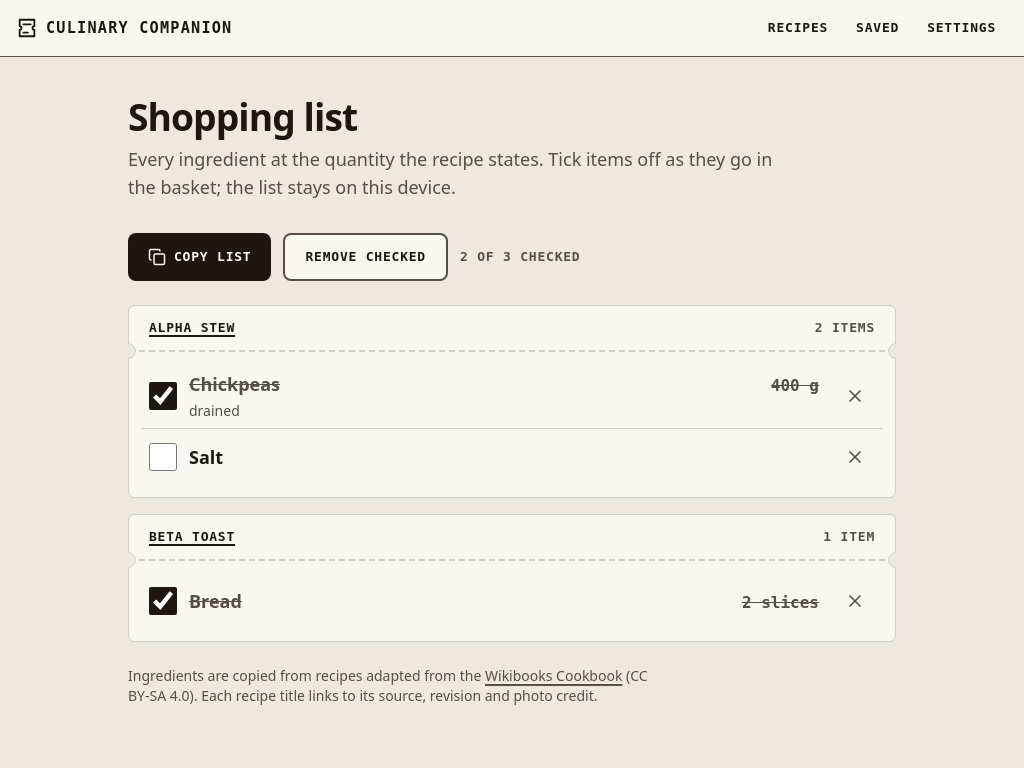
ShoppingListScreen › offers Undo after Remove checked and restores every removed tick
Click the button "Remove checked": click(366, 257) [284,233,448,281]
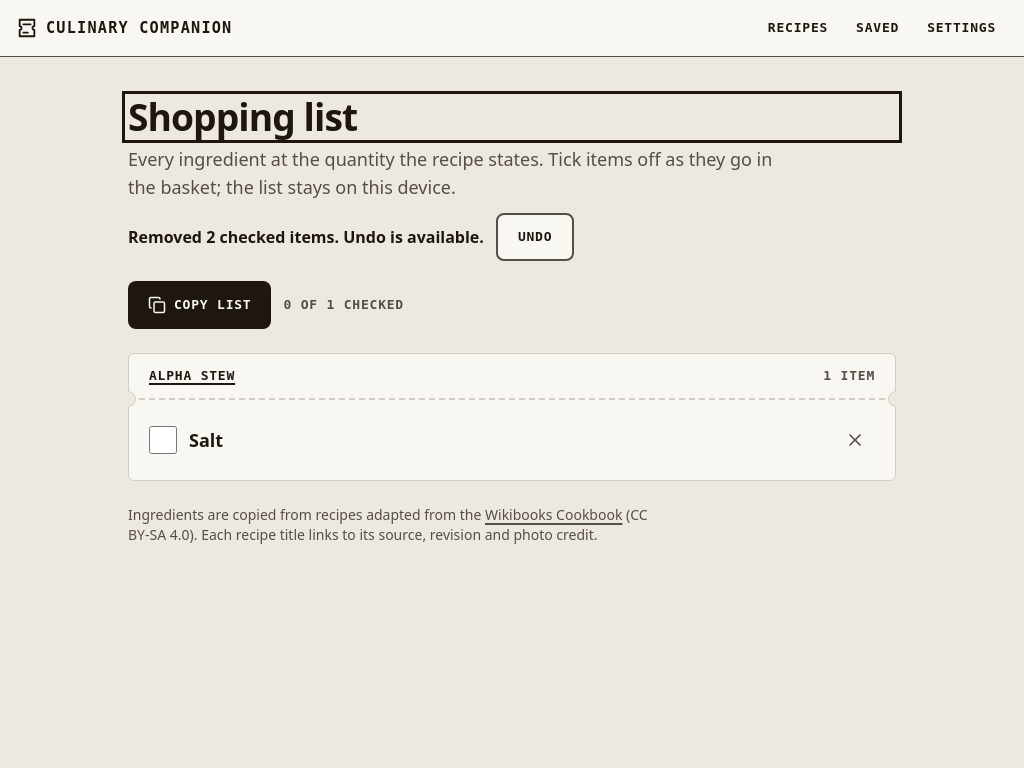
Now the text "Chickpeas" is gone
Click the button with aria-label "Undo removing 2 checked items": click(535, 237) [496,213,574,261]
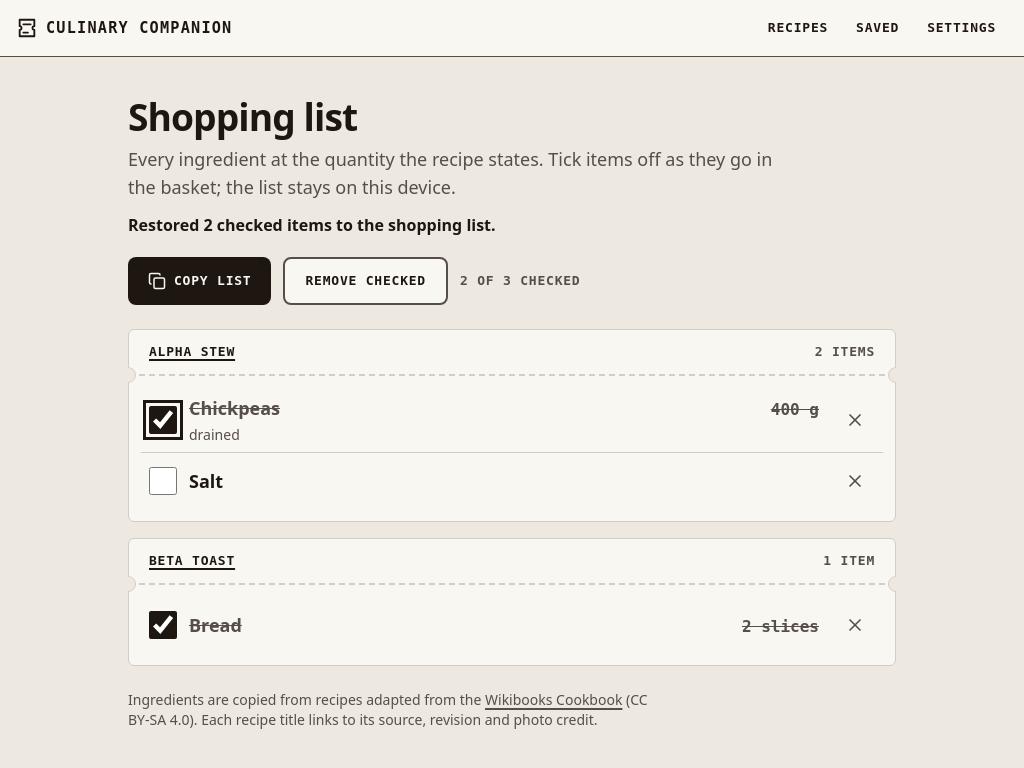
Now the message reads "Restored 2 checked items to the shopping list.", box [128,214,496,236]
